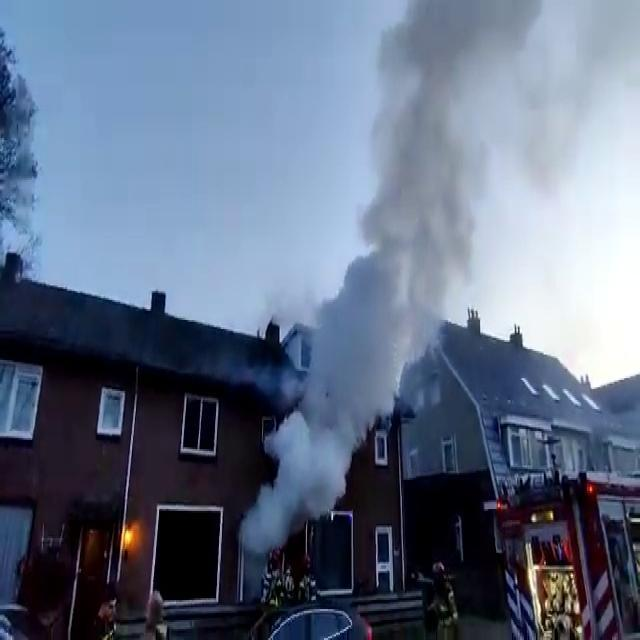Smoke: (342, 0, 550, 375), (242, 270, 364, 565)
